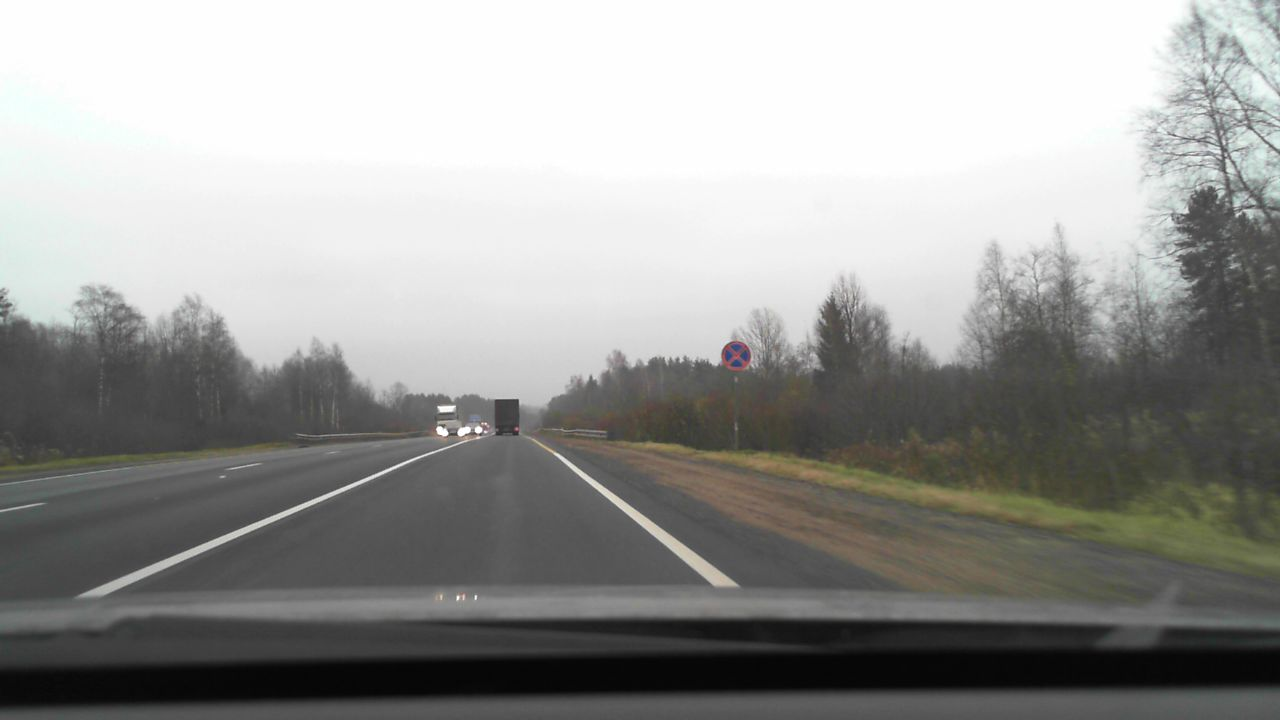No Parking: (721, 340, 751, 371)
